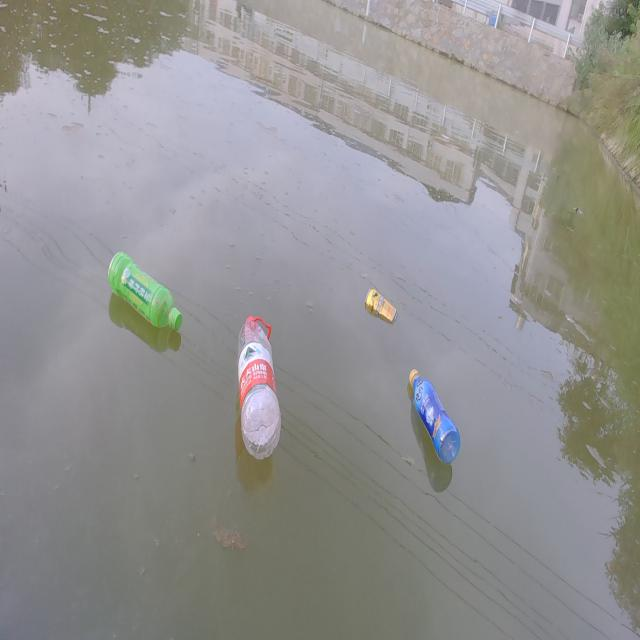Bottle: (235, 305, 282, 466), (105, 249, 184, 336), (406, 363, 462, 464)
Can: (362, 281, 398, 325)
